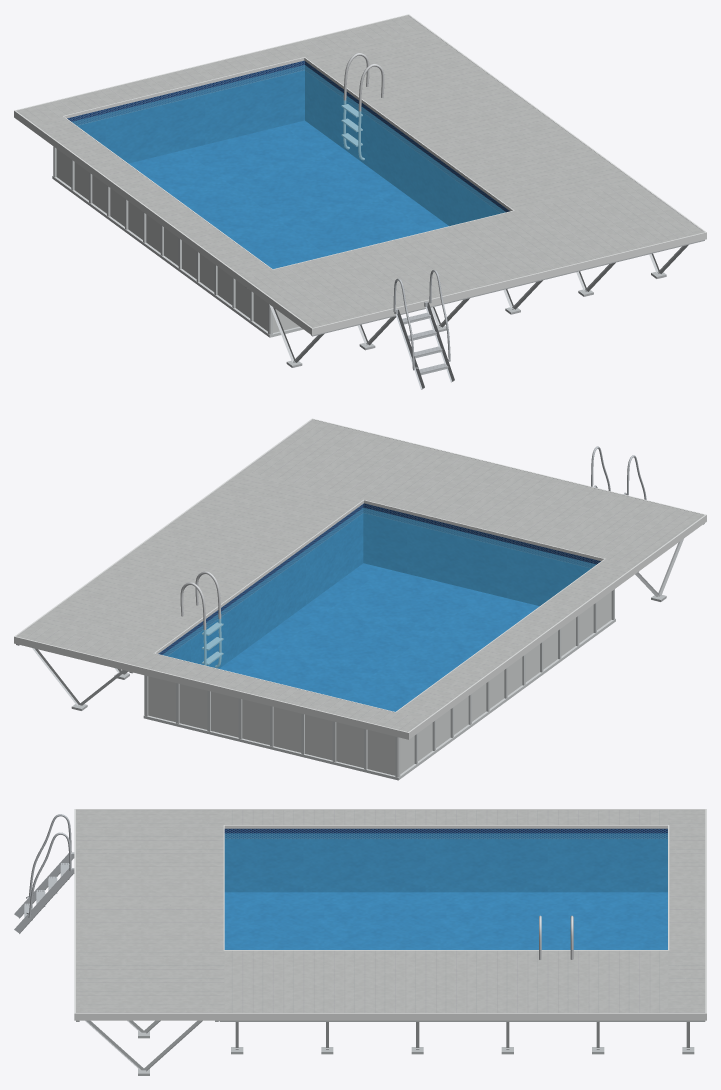
File: kayak-pool-16x24-white-endside-ag-nofence.c68bfc10a4.glb
3 views of the same model, one above another, from view 1: azimuth 30°, elevation 25°; view 2: azimuth 150°, elevation 25°; view 3: azimuth 270°, elevation 25° (orthographic). The views are drawn at different scales.
Visible parts, largest first — view 1: deck, water, liner_floor, liner_wall, fascia, wall, stud, upright, ladder, steel; view 2: deck, water, liner_floor, liner_wall, wall, fascia, upright, stud, steel; view 3: deck, water, liner_wall, liner_floor, fascia, stud, ladder.
Part boxes in pixels (box(x1,y1,x2,y2)): deck: box(16, 15, 704, 327); water: box(72, 65, 505, 268); liner_floor: box(129, 120, 448, 268); liner_wall: box(67, 60, 509, 225); fascia: box(14, 14, 706, 335); wall: box(56, 149, 299, 332); stud: box(245, 240, 704, 367); upright: box(52, 146, 303, 337); ladder: box(393, 270, 454, 389); steel: box(341, 53, 384, 160); deck: box(16, 419, 704, 731); water: box(162, 508, 596, 711); liner_floor: box(219, 563, 539, 711); liner_wall: box(158, 503, 600, 668); wall: box(148, 591, 611, 775); fascia: box(14, 418, 706, 739); upright: box(143, 589, 615, 780); stud: box(16, 523, 704, 710); steel: box(180, 571, 223, 667); deck: box(76, 810, 705, 1012); water: box(224, 833, 667, 949); liner_wall: box(224, 828, 667, 892); liner_floor: box(224, 892, 667, 949); fascia: box(74, 809, 706, 1020); stud: box(76, 1020, 705, 1075); ladder: box(14, 814, 74, 933).
Size of the model in its own units: 7.93 by 1.9 by 11.35.
Materials: 10 (3 with a texture image).
